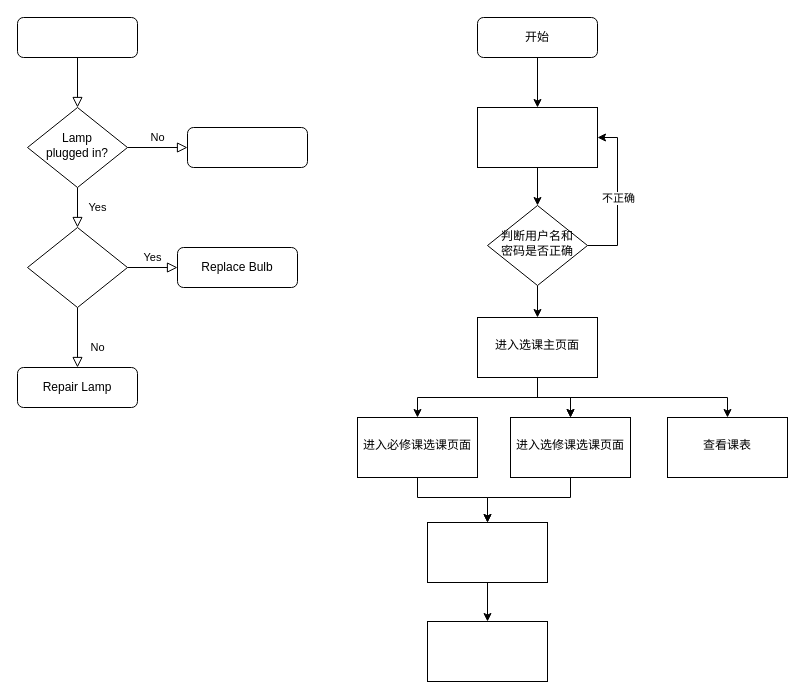
Some shapes in this 805 by 699 pixel diagram are drawn without their labels. The centre of each missing label's shape, as x and y in pixels:
"Bulb burned out?" goes at point 77,267.
"Lamp doesn't work" goes at point 77,37.
"Plug in lamp" goes at point 247,147.
"查看课程信息" goes at point 487,552.
"用户进入登录界面，输入用户名和密码" goes at point 537,137.
